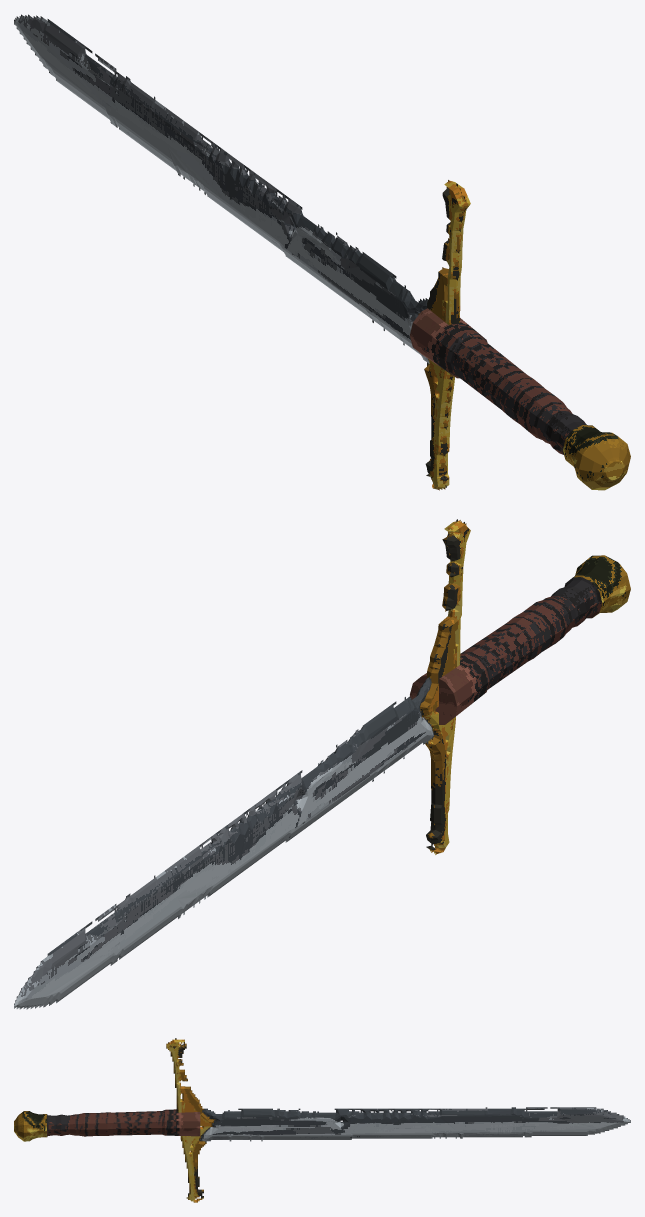
The model's file is longsword.glb.
3 views of the same model, one above another, from view 1: azimuth 30°, elevation 25°; view 2: azimuth 150°, elevation 25°; view 3: azimuth 270°, elevation 25° (orthographic). The views are drawn at different scales.
Parts seen in each view (by area): view 1: blade, grip, guard, pommel; view 2: blade, grip, guard, pommel; view 3: blade, grip, guard, pommel.
Part boxes in pixels (x1,y1,x2,y2): blade: (14,14,429,365); grip: (409,308,586,454); guard: (418,180,470,490); pommel: (563,425,630,490); blade: (14,677,433,1009); grip: (410,577,602,724); guard: (420,519,470,854); pommel: (573,555,630,616); blade: (199,1107,630,1142); grip: (47,1109,200,1136); guard: (166,1038,215,1202); pommel: (14,1111,46,1141).
Bounding box in the file's own units: 0.0548 × 0.3212 × 1.09.
Materials: 2 (2 with a texture image).
